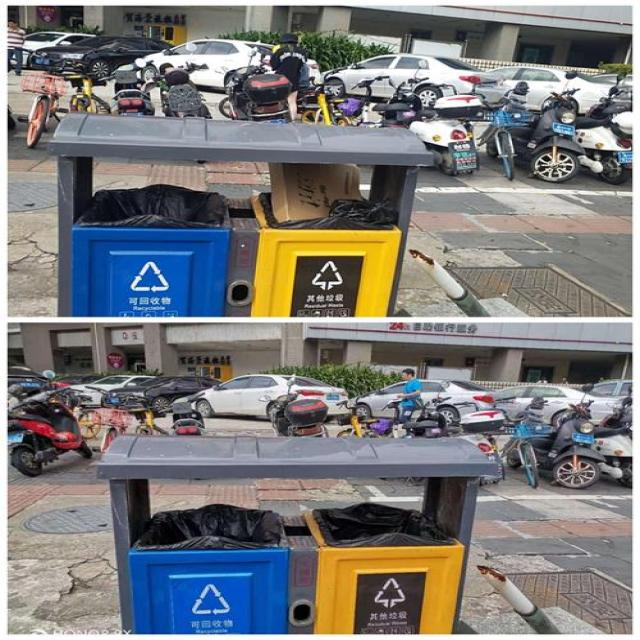garbage_bin: (97, 434, 494, 632)
overflow: (46, 113, 431, 315)
